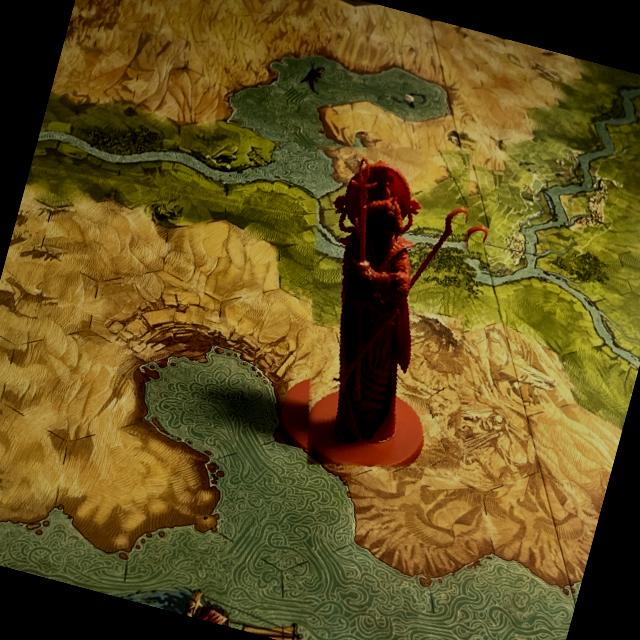amon: (256, 122, 522, 491)
